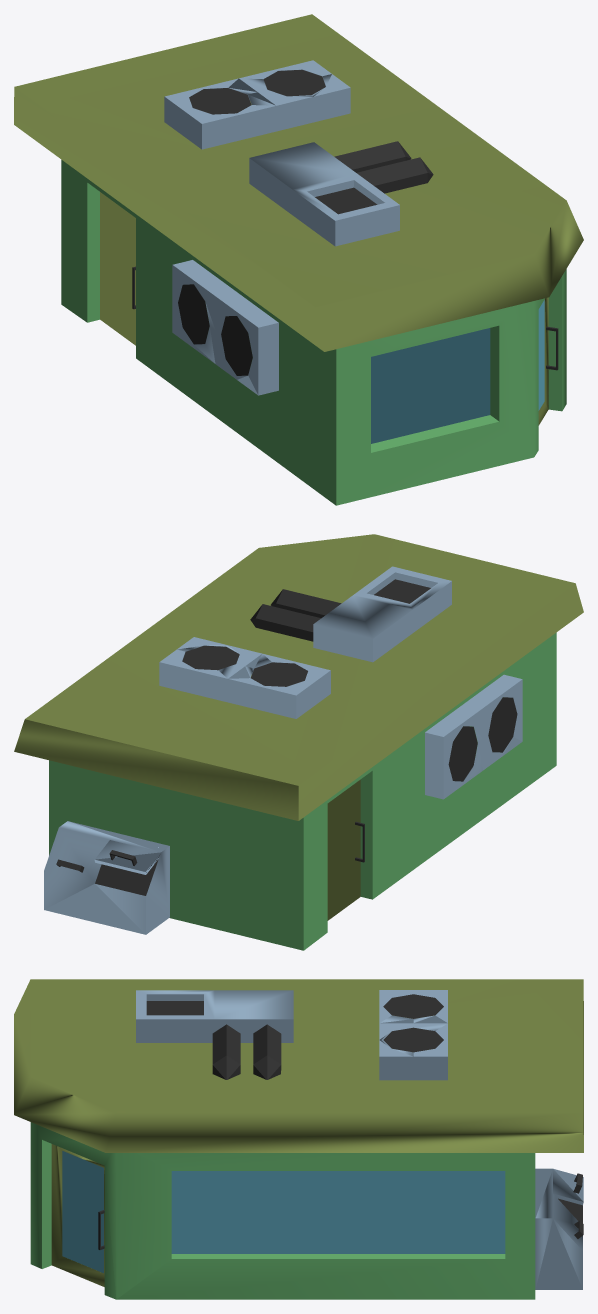
File: store.dae
3 renders of one model, top to bottom at view 1: azimuth 30°, elevation 25°; view 2: azimuth 150°, elevation 25°; view 3: azimuth 270°, elevation 25°, orthographic. The views are drawn at different scales.
Visible parts, largest first — view 1: polymsh2_Pts_Material__4__Surf, polymsh2_Pts_Material__3__Surf, polymsh2_Pts_Material__1__Surf, polymsh2_Pts_Material__5__Surf, polymsh2_Pts_Material__2__Surf; view 2: polymsh2_Pts_Material__4__Surf, polymsh2_Pts_Material__3__Surf, polymsh2_Pts_Material__1__Surf, polymsh2_Pts_Material__2__Surf; view 3: polymsh2_Pts_Material__4__Surf, polymsh2_Pts_Material__3__Surf, polymsh2_Pts_Material__5__Surf, polymsh2_Pts_Material__1__Surf, polymsh2_Pts_Material__2__Surf.
Boxes of the visible parts, box(x1,y1,x2,y2) form: polymsh2_Pts_Material__4__Surf: box(14, 14, 583, 425); polymsh2_Pts_Material__3__Surf: box(61, 160, 566, 505); polymsh2_Pts_Material__1__Surf: box(164, 60, 399, 395); polymsh2_Pts_Material__5__Surf: box(371, 300, 544, 443); polymsh2_Pts_Material__2__Surf: box(132, 69, 558, 375); polymsh2_Pts_Material__4__Surf: box(14, 534, 583, 920); polymsh2_Pts_Material__3__Surf: box(49, 632, 556, 950); polymsh2_Pts_Material__1__Surf: box(44, 566, 522, 934); polymsh2_Pts_Material__2__Surf: box(56, 579, 517, 895); polymsh2_Pts_Material__4__Surf: box(14, 979, 583, 1286); polymsh2_Pts_Material__3__Surf: box(30, 1122, 535, 1299); polymsh2_Pts_Material__5__Surf: box(62, 1151, 505, 1273); polymsh2_Pts_Material__1__Surf: box(136, 990, 583, 1289); polymsh2_Pts_Material__2__Surf: box(98, 994, 583, 1249).
Size of the model in its own units: 55.71 by 39.46 by 96.77.
